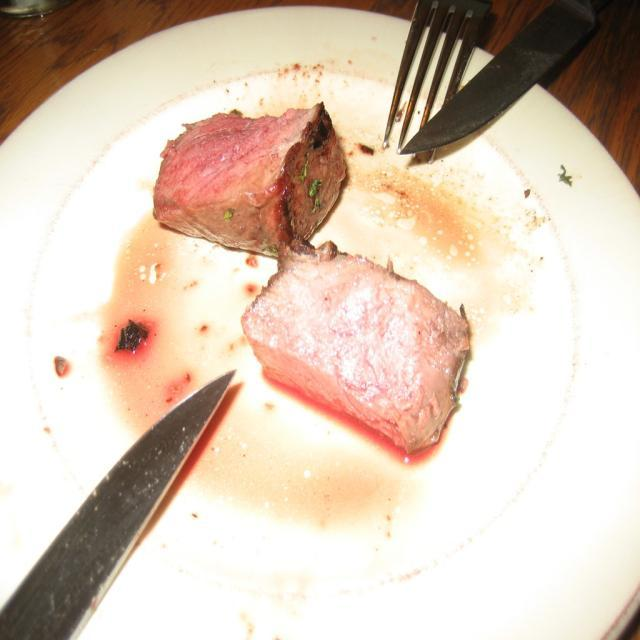Knife: (0, 371, 233, 640), (401, 0, 595, 154)
